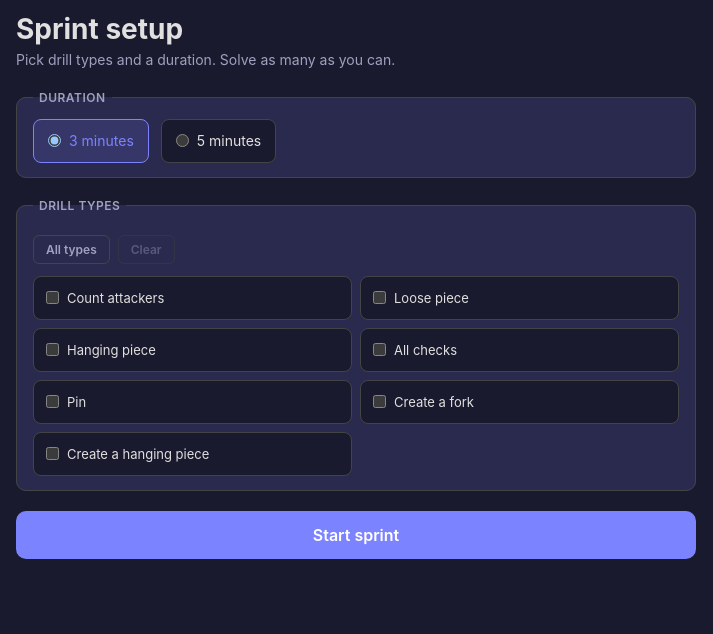
<DrillSprintSetupPage> KS-2241 › KS-2350 — обработка 409 ConflictException › «Отмена» закрывает conflict-плашку и возвращает Start-кнопку
This screenshot has width=713, height=634.
Step 1. Click the button with test id "drill-sprint-setup-start" → (356, 535), box [16, 511, 696, 559]
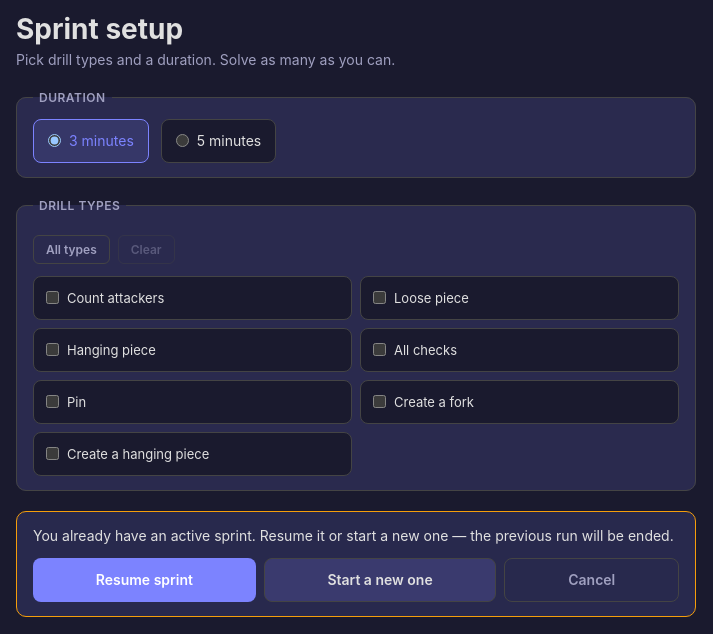
Expected: the message with test id "drill-sprint-setup-conflict" is shown, [16, 511, 696, 617]
Step 2. Click the button with test id "drill-sprint-setup-cancel" → (592, 580), box [504, 558, 679, 602]
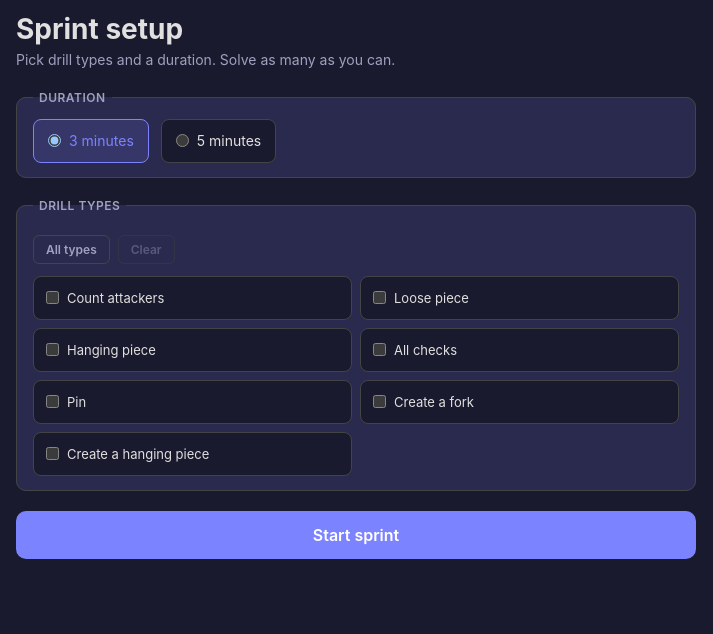
Expected: the message with test id "drill-sprint-setup-conflict" is gone
Expected: the button with test id "drill-sprint-setup-start" is shown, [16, 511, 696, 559]
